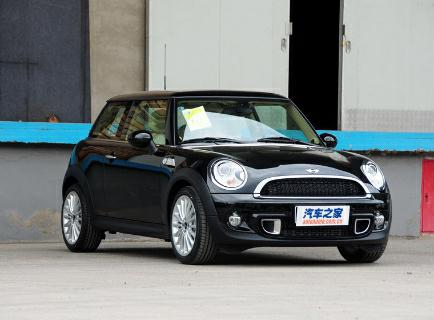MINI: (44, 82, 410, 261)
